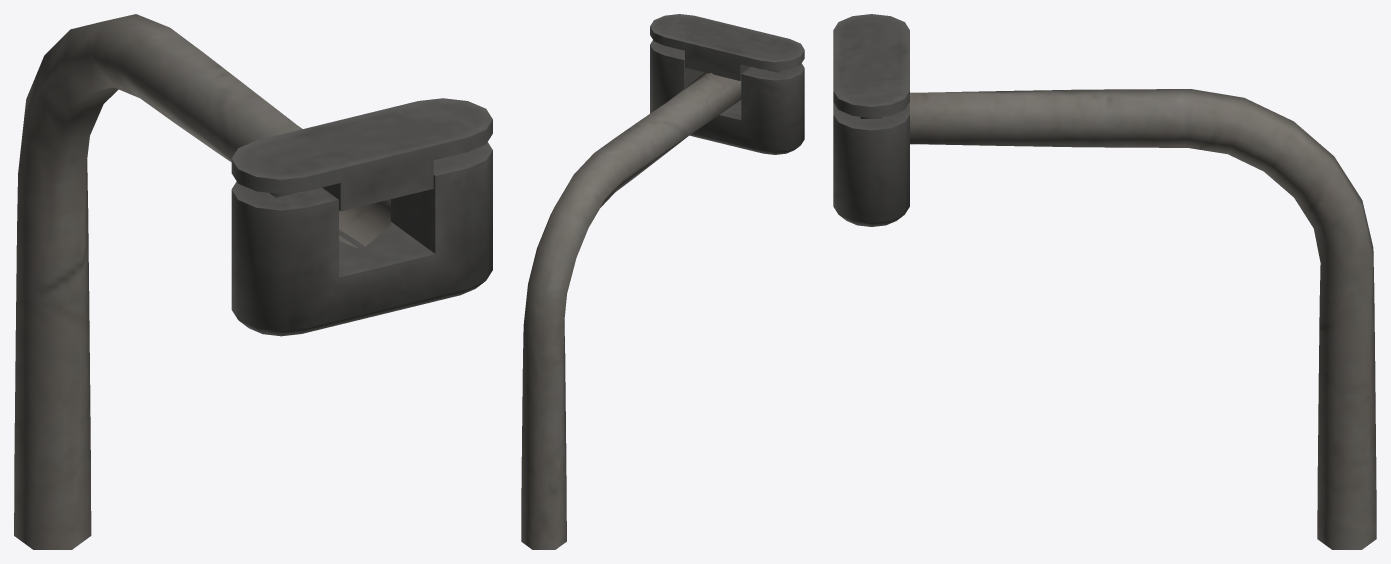
The model's file is cable_corner_towards.glb.
3 renders of one model, left to right at view 1: azimuth 30°, elevation 25°; view 2: azimuth 150°, elevation 25°; view 3: azimuth 270°, elevation 25°, orthographic. The views are drawn at different scales.
Parts seen in each view (by area): view 1: cable_corner_towards.001; view 2: cable_corner_towards.001; view 3: cable_corner_towards.001.
Part boxes in pixels (x1,y1,x2,y2): cable_corner_towards.001: (14, 14, 492, 549); cable_corner_towards.001: (521, 14, 804, 549); cable_corner_towards.001: (833, 14, 1376, 549).
Bounding box in the file's own units: 0.0416 × 0.1 × 0.1029.
1 material, 1 textured.
